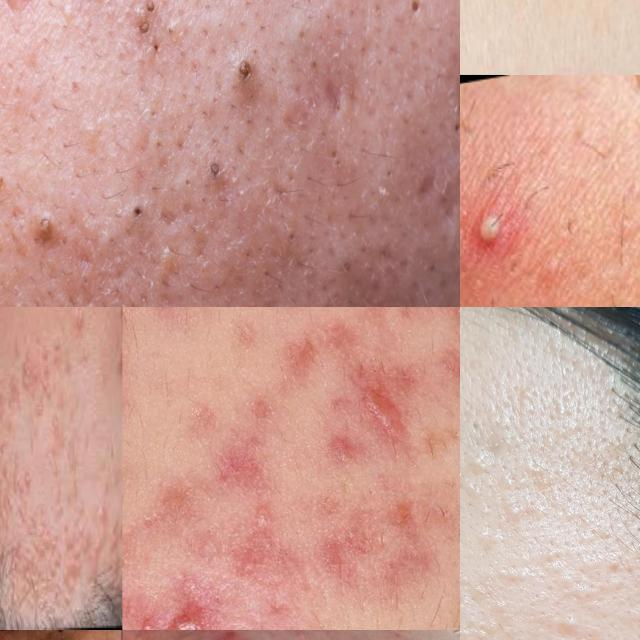comedone: (0, 424, 23, 506), (0, 503, 18, 584), (232, 52, 262, 86), (138, 12, 156, 42), (206, 154, 224, 180), (131, 202, 146, 230)
flat_wart: (20, 493, 114, 601), (529, 549, 610, 639), (460, 447, 535, 542), (9, 346, 64, 413), (460, 560, 494, 640)
folliculitis: (460, 195, 522, 267)
keloid: (352, 356, 426, 460)
pustule: (202, 630, 242, 640)
